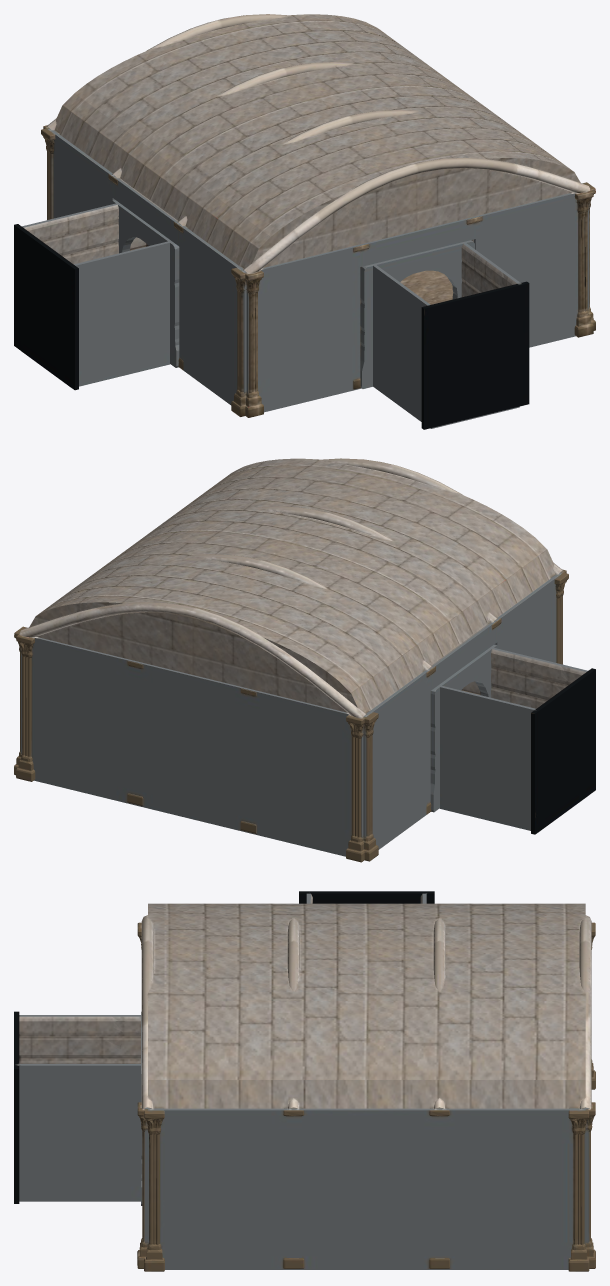
The model's file is room.glb.
3 views of the same model, one above another, from view 1: azimuth 30°, elevation 25°; view 2: azimuth 150°, elevation 25°; view 3: azimuth 270°, elevation 25° (orthographic). The views are drawn at different scales.
Parts seen in each view (by area): view 1: MACHINE-ROOM; view 2: MACHINE-ROOM; view 3: MACHINE-ROOM.
Boxes of the visible parts, x1,y1,x2,y2 form: MACHINE-ROOM: (14,14,595,429); MACHINE-ROOM: (14,458,595,862); MACHINE-ROOM: (14,891,595,1271).
Size of the model in its own units: 13.3 by 5.95 by 13.3.
1 material, 1 textured.
